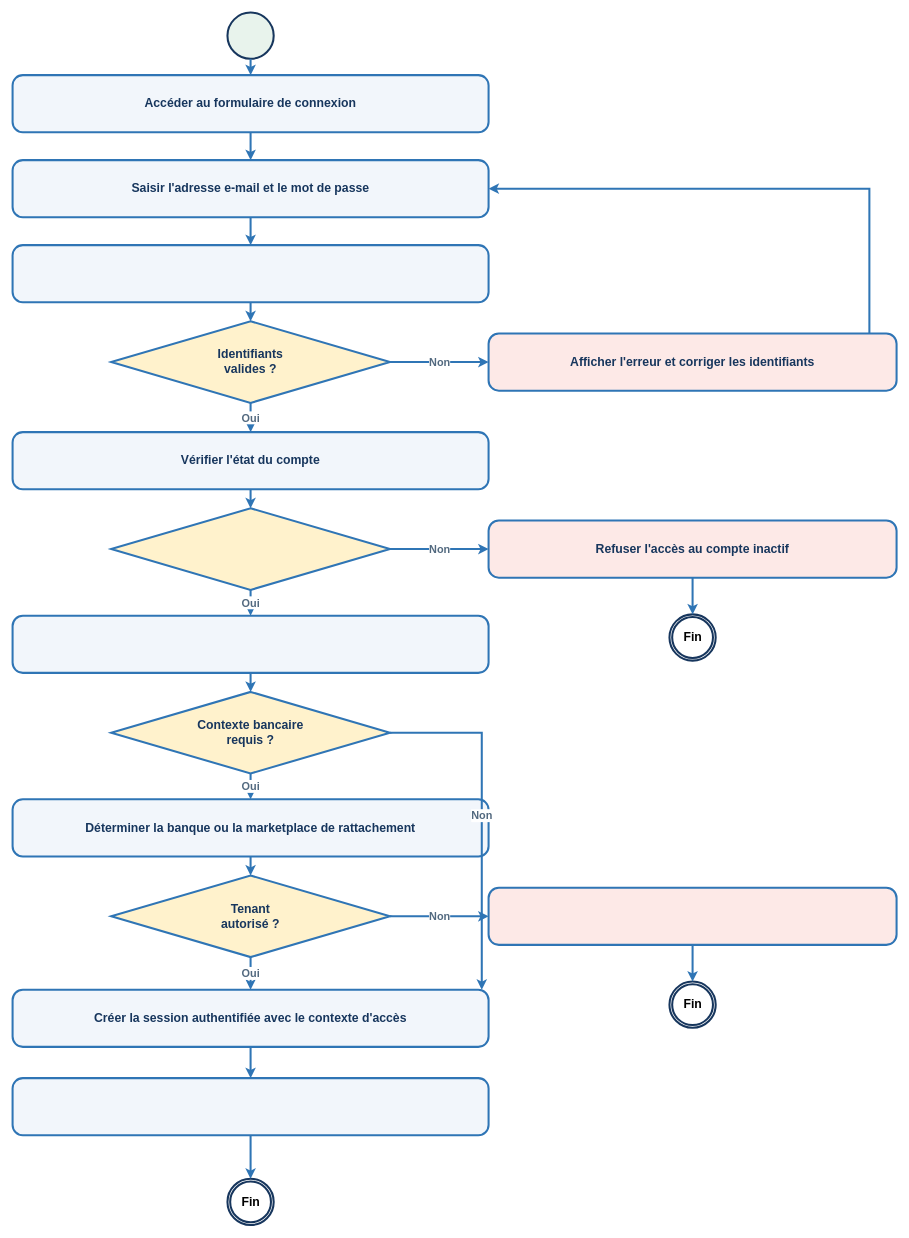
Image size: 909x1238. Some labels were removed from this diagram. The centre of each missing label's shape, as x and y in pixels:
Charger le rôle et contrôler les autorisations: [250,644]
Compte actif ?: [250,549]
Début: [250,35]
Rediriger vers l'espace correspondant au rôle: [250,1106]
Refuser l'accès hors du périmètre autorisé: [692,916]
Vérifier les identifiants: [250,273]
